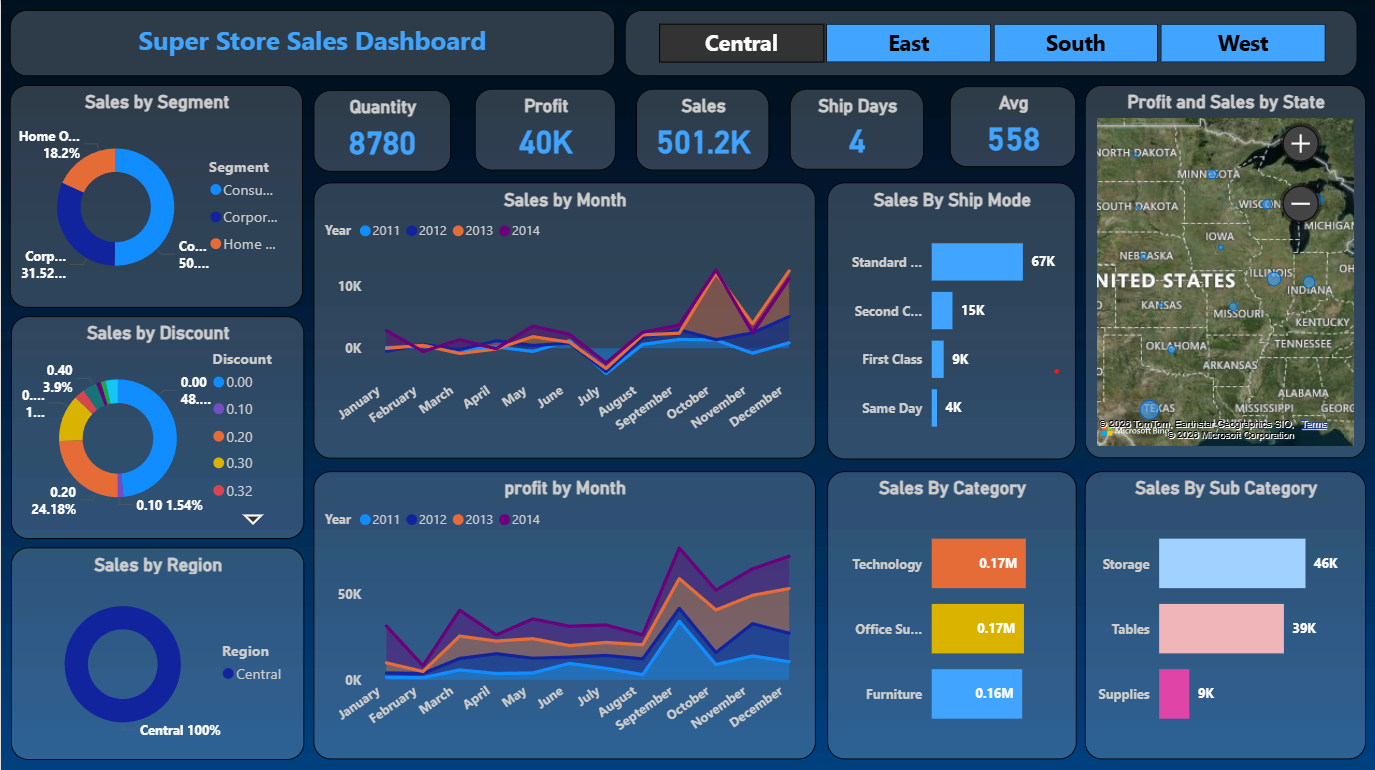

The dashboard page shown, as its layout file describes it:
{"tool":"powerbi","page":{"name":"Page 1","canvas":[1280,720],"ordinal":0},"visuals":[{"type":"clusteredBarChart","title":" Sales By Category","fields":{"Category":["Superstore.Category"],"Y":["Sum(Superstore.Sales)"]},"box":[768.5,437.9,231.6,267.8],"z":0},{"type":"clusteredBarChart","title":" Sales By Sub Category","fields":{"Category":["Superstore.Sub-Category"],"Y":["Sum(Superstore.Sales)"]},"box":[1008.6,437.9,261.8,267.8],"z":1000},{"type":"clusteredBarChart","title":" Sales By Ship Mode","fields":{"Category":["Superstore.Ship Mode"],"Y":["Sum(Superstore.Sales)"]},"box":[768.8,170,231.2,257.5],"z":2000},{"type":"stackedAreaChart","title":"profit by Month ","fields":{"Category":["Superstore.Order Date.Variation.Date Hierarchy.Month"],"Y":["Sum(Superstore.Sales)"],"Series":["Superstore.Order Date.Variation.Date Hierarchy.Year"]},"box":[290.8,437.9,466.9,267.8],"z":3000},{"type":"stackedAreaChart","title":"Sales by Month ","fields":{"Category":["Superstore.Order Date.Variation.Date Hierarchy.Month"],"Series":["Superstore.Order Date.Variation.Date Hierarchy.Year"],"Y":["Sum(Superstore.Profit)"]},"box":[290.8,170.1,466.9,257],"z":4000},{"type":"map","title":"Profit and Sales by State","fields":{"Category":["Superstore.State"],"Size":["Sum(Superstore.Sales)"]},"box":[1008.6,79.6,261.8,347.5],"z":5000},{"type":"donutChart","title":"Sales by Segment","fields":{"Category":["Superstore.Segment"],"Y":["Sum(Superstore.Sales)"]},"box":[8.4,79.6,272.7,207.5],"z":6000},{"type":"donutChart","title":" Sales by Discount","fields":{"Y":["Sum(Superstore.Sales)"],"Series":["Superstore.Discount"]},"box":[8.8,293.8,272.5,207.5],"z":7000},{"type":"slicer","fields":{"Values":["Superstore.Region"]},"box":[580.3,9.7,681.6,61.5],"z":8000},{"type":"textbox","box":[8.4,9.7,563.4,61.5],"z":9000},{"type":"card","title":"Sales","fields":{"Values":["Sum(Superstore.Sales)"]},"box":[591.2,82,124.3,76],"z":10000},{"type":"card","title":"Quantity","fields":{"Values":["Sum(Superstore.Quantity)"]},"box":[290.8,83.2,127.9,76],"z":11000},{"type":"card","title":"Profit","fields":{"Values":["Sum(Superstore.Profit)"]},"box":[440.4,82,131.5,76],"z":12000},{"type":"card","title":"Ship Days","fields":{"Values":["Avg(Superstore.Average Delivery)"]},"box":[733.8,82.5,125,75],"z":13000},{"type":"donutChart","title":" Sales by Region","fields":{"Category":["Superstore.Region"],"Y":["Sum(Superstore.Sales)"]},"box":[8.8,508.8,272.5,197.5],"z":14000},{"type":"card","title":"Avg","fields":{"Values":["Sum(Superstore.Discount)"]},"box":[882.5,80,117.5,75],"z":15000}]}

Visuals, with their boxes in screenshot pixels (x1, y1, x2, y2), scaled from the page's 1280x720 canvas onto the 1375x770 screenshot:
" Sales By Category" clusteredBarChart: locate(826, 468, 1074, 755)
" Sales By Sub Category" clusteredBarChart: locate(1083, 468, 1365, 755)
" Sales By Ship Mode" clusteredBarChart: locate(826, 182, 1074, 457)
"profit by Month " stackedAreaChart: locate(312, 468, 814, 755)
"Sales by Month " stackedAreaChart: locate(312, 182, 814, 457)
"Profit and Sales by State" map: locate(1083, 85, 1365, 457)
"Sales by Segment" donutChart: locate(9, 85, 302, 307)
" Sales by Discount" donutChart: locate(9, 314, 302, 536)
slicer - Superstore.Region: locate(623, 10, 1356, 76)
textbox: locate(9, 10, 614, 76)
"Sales" card: locate(635, 88, 769, 169)
"Quantity" card: locate(312, 89, 450, 170)
"Profit" card: locate(473, 88, 614, 169)
"Ship Days" card: locate(788, 88, 923, 168)
" Sales by Region" donutChart: locate(9, 544, 302, 755)
"Avg" card: locate(948, 86, 1074, 166)
